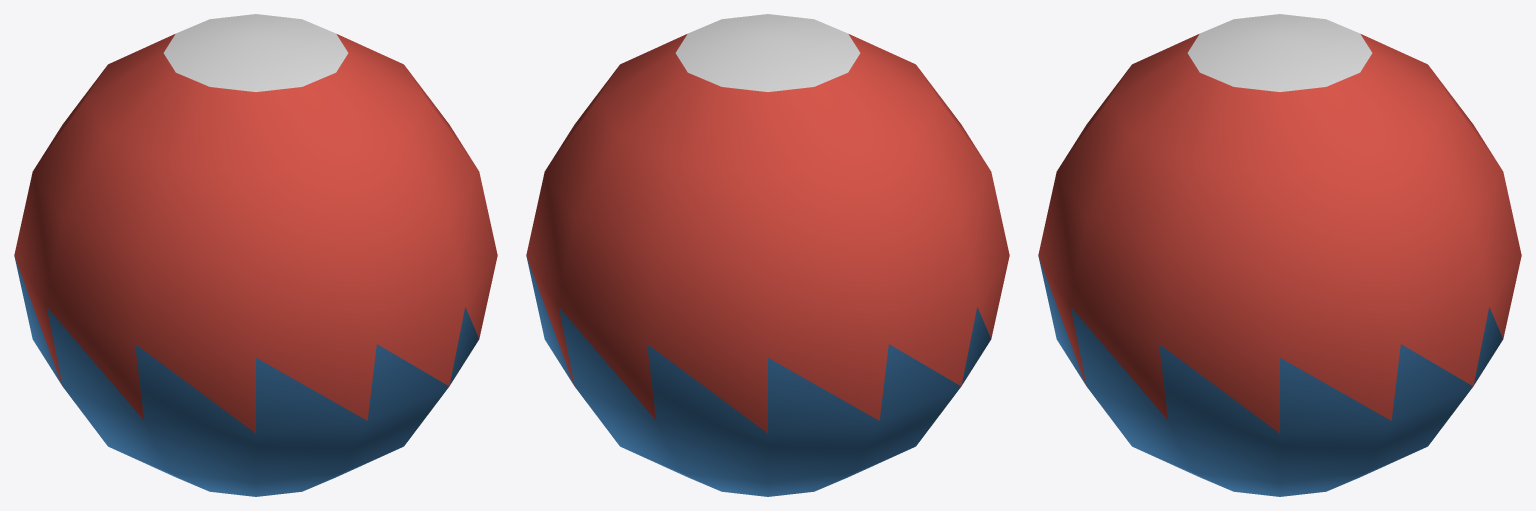
The model's file is categorical-missing.glb.
3 renders of one model, left to right at view 1: azimuth 30°, elevation 25°; view 2: azimuth 150°, elevation 25°; view 3: azimuth 270°, elevation 25°, orthographic.
Parts seen in each view (by area): view 1: atlas.frontal, atlas.parietal, atlas.missing; view 2: atlas.frontal, atlas.parietal, atlas.missing; view 3: atlas.frontal, atlas.parietal, atlas.missing.
Part boxes in pixels (box(x1,y1,x2,y2)): atlas.frontal: box(14, 34, 497, 433); atlas.parietal: box(14, 256, 479, 496); atlas.missing: box(163, 14, 348, 91); atlas.frontal: box(526, 34, 1009, 433); atlas.parietal: box(526, 256, 991, 496); atlas.missing: box(675, 14, 860, 91); atlas.frontal: box(1038, 34, 1521, 433); atlas.parietal: box(1038, 256, 1503, 496); atlas.missing: box(1187, 14, 1372, 91).
Size of the model in its own units: 2 by 2 by 2.
